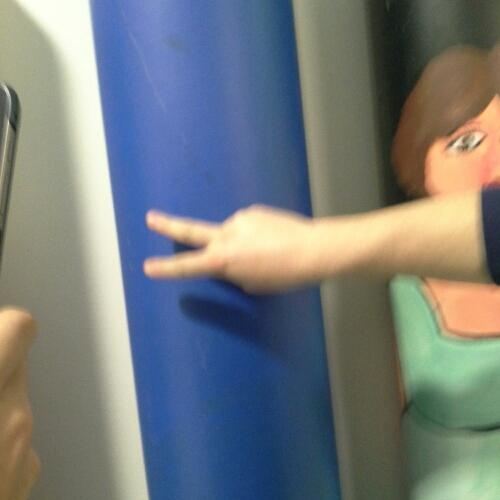scissors: (136, 196, 330, 306)
